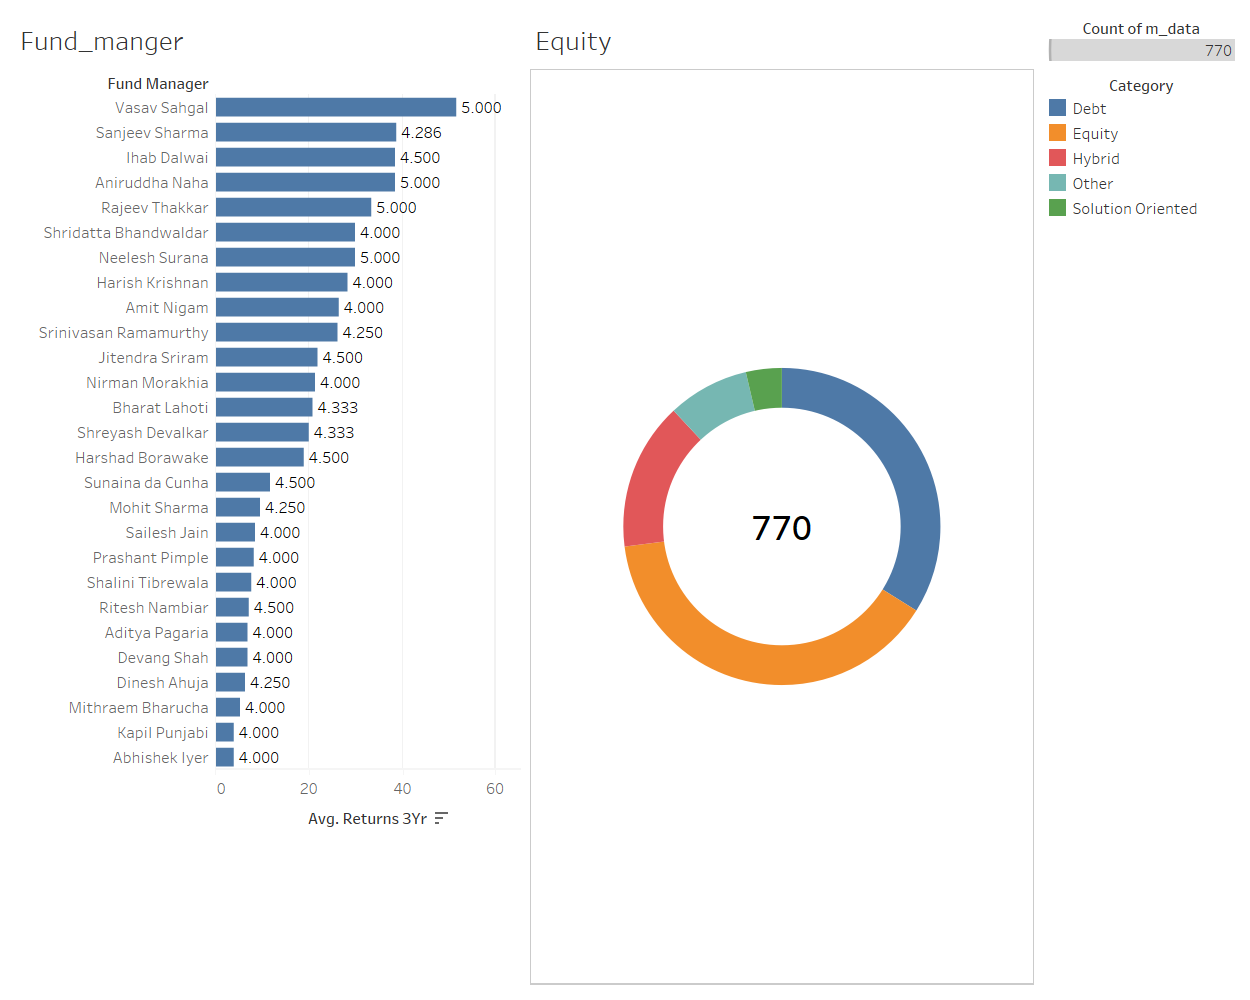

What the dashboard file says about the page in this screenshot:
{"tool":"tableau","page":{"name":"Dashboard 2","canvas":[1000,800],"ordinal":1},"visuals":[{"type":"worksheet","title":"Fund_manger","mark":"Automatic","rows":["fund_manager"],"cols":["returns_3yr"],"box":[8,8,412,784]},{"type":"worksheet","title":"category","mark":"Pie","rows":["Calculation_93731195375128577","Calculation_93731195375153155"],"box":[420,8,412,784]},{"type":"legend","title":"category","param":"[federated.12ltlfn0nxvzek1gn3e0n0ypa2he].[__tableau_internal_object_id__].[cnt:m","box":[832,8,160,46]},{"type":"legend","title":"category","param":"[federated.12ltlfn0nxvzek1gn3e0n0ypa2he].[none:category:nk]","box":[832,54,160,126]}]}

Visuals, with their boxes in screenshot pixels (x1, y1, x2, y2), scaled from the page's 1000x800 canvas onto the 1250x1000 screenshot:
"Fund_manger" worksheet: x1=10, y1=10, x2=525, y2=990
"category" worksheet (Pie marks): x1=525, y1=10, x2=1040, y2=990
"category" legend: x1=1040, y1=10, x2=1240, y2=68
"category" legend: x1=1040, y1=68, x2=1240, y2=225
